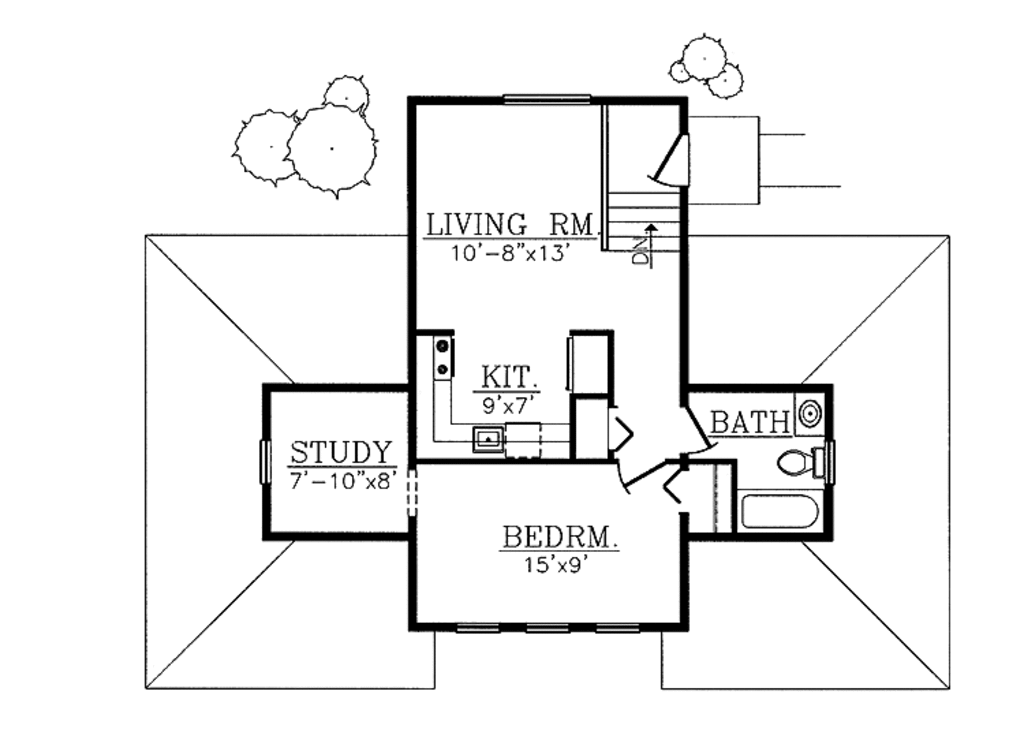door: (614, 453, 671, 495), (682, 406, 719, 463)
large_sink: (772, 440, 831, 483)
small_sink: (789, 391, 829, 437)
stairs: (602, 102, 684, 251)
tub: (742, 485, 822, 534)
window: (505, 89, 595, 108), (523, 621, 579, 635), (595, 618, 645, 631), (261, 425, 269, 492), (455, 623, 497, 635)
